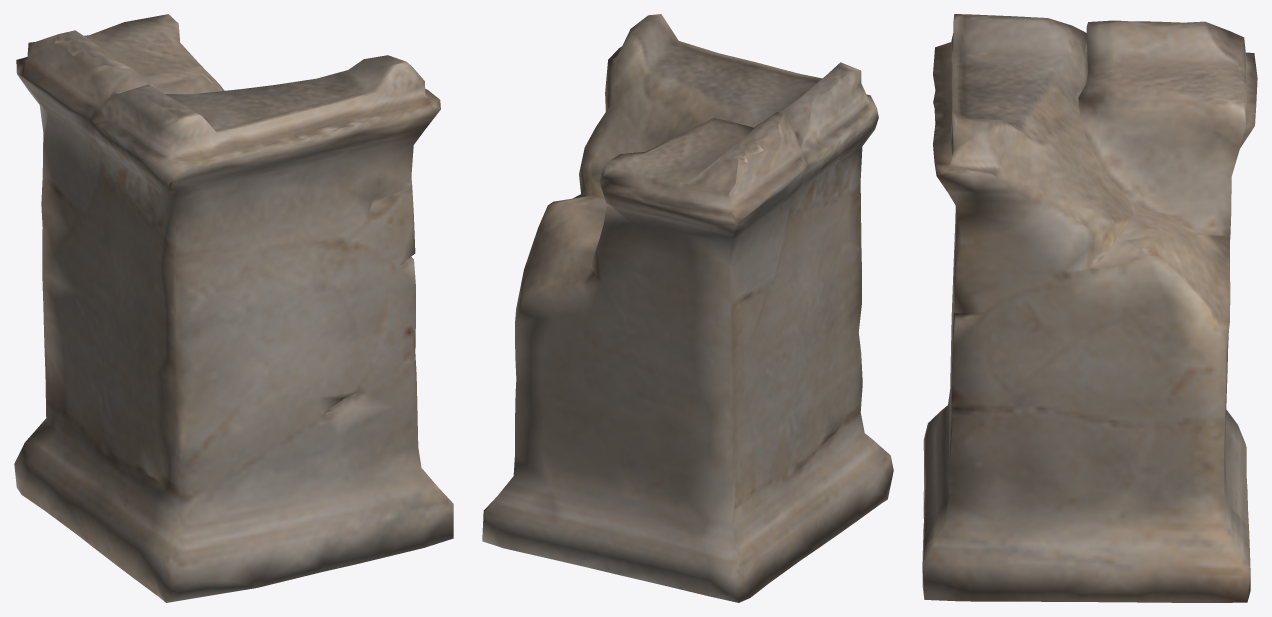
The model's file is Q_Halo.fbx.
3 views of the same model, side by side, from view 1: azimuth 30°, elevation 25°; view 2: azimuth 150°, elevation 25°; view 3: azimuth 270°, elevation 25° (orthographic). The views are drawn at different scales.
Visible parts, largest first — view 1: Aset_stone_carved_M_tg0pfjxda_LOD5; view 2: Aset_stone_carved_M_tg0pfjxda_LOD5; view 3: Aset_stone_carved_M_tg0pfjxda_LOD5.
Part boxes in pixels (x1,y1,x2,y2): Aset_stone_carved_M_tg0pfjxda_LOD5: (14, 14, 453, 602); Aset_stone_carved_M_tg0pfjxda_LOD5: (482, 14, 893, 602); Aset_stone_carved_M_tg0pfjxda_LOD5: (922, 14, 1257, 602).
Bounding box in the file's own units: 24.02 × 38.23 × 24.74.
